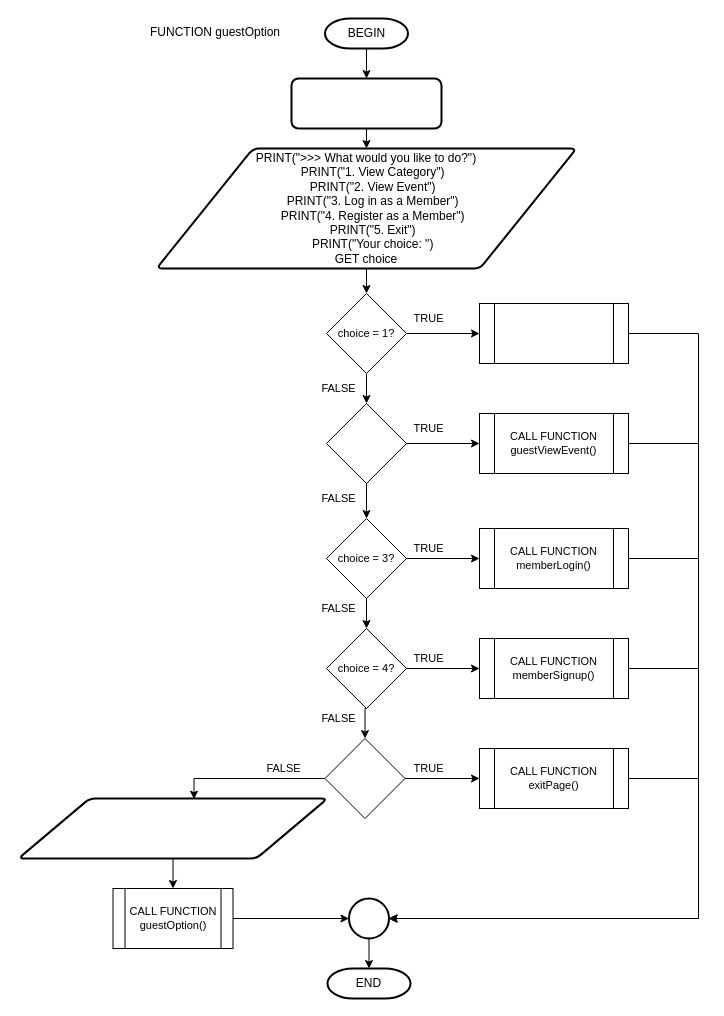
Some shapes in this 724 by 1016 pixel diagram are drawn without their labels. Here are the shapes that lost their labels. From the top down, the centre of each, then its label:
[366,103]: DECLARE choice AS INTEGER
[553,333]: CALL FUNCTION guestViewCategory()
[366,443]: choice = 2?
[364,778]: choice = 5?
[172,828]: PRINT("option not support, please try again")
